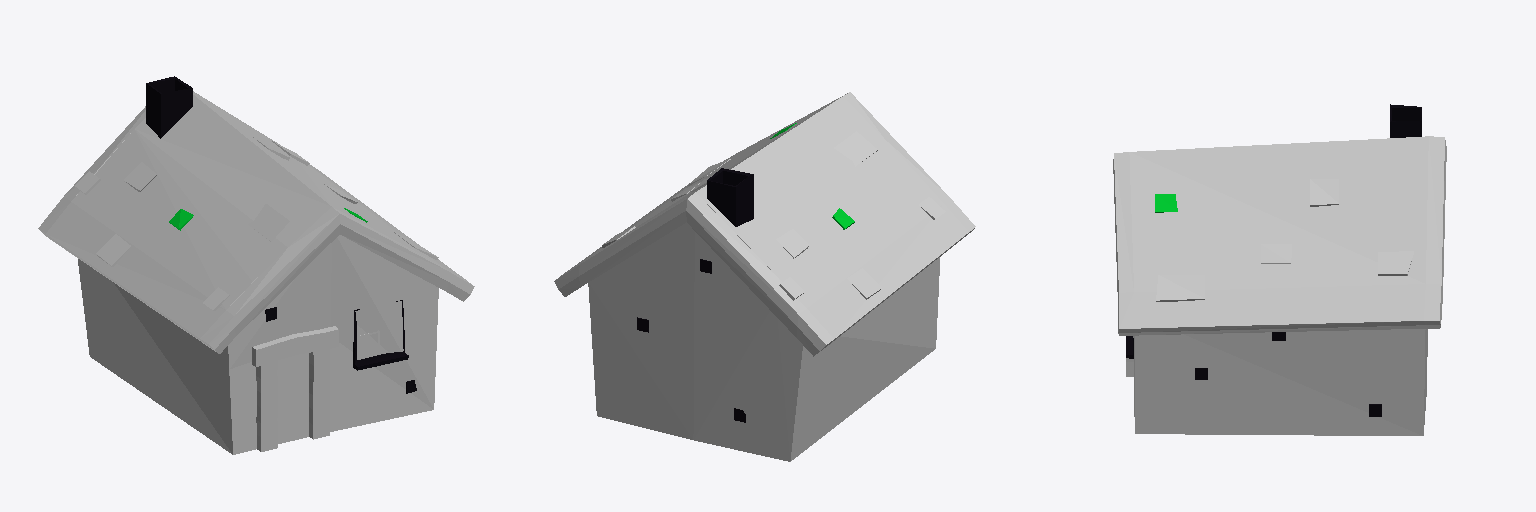
Rendered from house2.obj.
3 renders of one model, left to right at view 1: azimuth 30°, elevation 25°; view 2: azimuth 150°, elevation 25°; view 3: azimuth 270°, elevation 25°, orthographic.
Parts seen in each view (by area): view 1: Maison_Cube.001, Cheminée_Cube.018, Poutre1_Cube.002, Poutre2_Cube.003, Poutre3_Cube.004, Fenetre_Cube.016, Tuile.003_Cube.007, Tuile.002_Cube.006, Tuile.004_Cube.008; view 2: Maison_Cube.001, Cheminée_Cube.018, Tuile.003_Cube.007, Tuile.002_Cube.006; view 3: Maison_Cube.001, Tuile.008_Cube.012, Cheminée_Cube.018, Tuile.007_Cube.011, Tuile.009_Cube.013, Tuile.010_Cube.014.
Part boxes in pixels (bbox=[...]): Maison_Cube.001: bbox=[38, 91, 474, 454]; Cheminée_Cube.018: bbox=[146, 76, 192, 138]; Poutre1_Cube.002: bbox=[256, 360, 277, 451]; Poutre2_Cube.003: bbox=[309, 348, 329, 439]; Poutre3_Cube.004: bbox=[252, 326, 338, 366]; Fenetre_Cube.016: bbox=[353, 300, 408, 370]; Tuile.003_Cube.007: bbox=[248, 204, 289, 241]; Tuile.002_Cube.006: bbox=[96, 234, 130, 266]; Tuile.004_Cube.008: bbox=[124, 162, 156, 191]; Maison_Cube.001: bbox=[554, 92, 975, 461]; Cheminée_Cube.018: bbox=[707, 168, 753, 226]; Tuile.003_Cube.007: bbox=[834, 131, 877, 166]; Tuile.002_Cube.006: bbox=[847, 268, 881, 299]; Maison_Cube.001: bbox=[1113, 136, 1446, 435]; Tuile.008_Cube.012: bbox=[1156, 275, 1204, 301]; Cheminée_Cube.018: bbox=[1390, 104, 1421, 137]; Tuile.007_Cube.011: bbox=[1378, 251, 1413, 275]; Tuile.009_Cube.013: bbox=[1310, 179, 1338, 206]; Tuile.010_Cube.014: bbox=[1261, 244, 1291, 263].
Bounding box in the file's own units: 1.42 × 1.29 × 1.48.